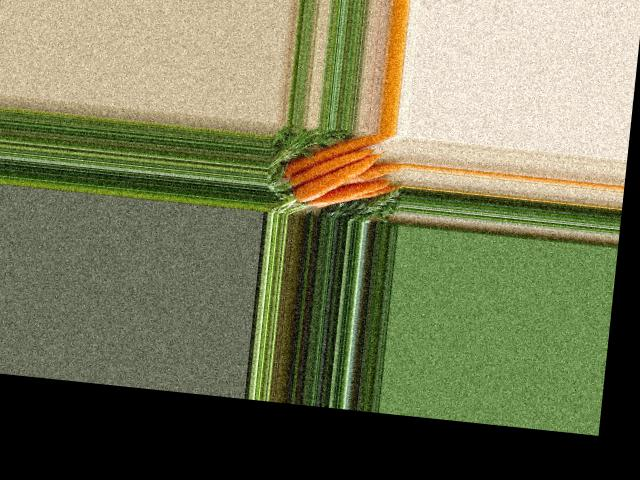carrot: (276, 122, 393, 188)
